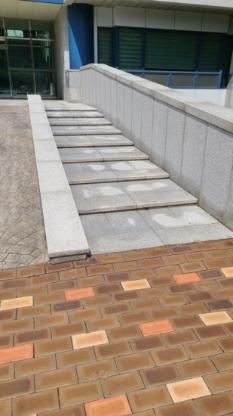stair: (27, 84, 207, 253)
